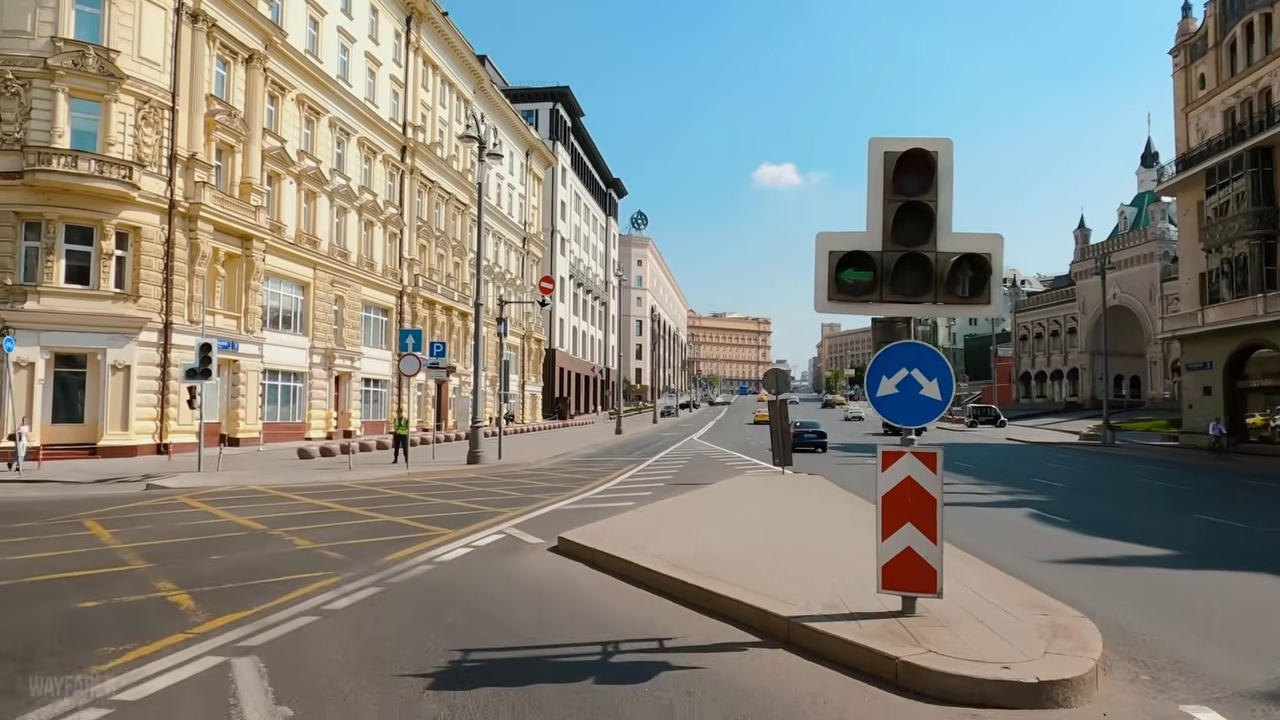acesa: (762, 163, 797, 185)
